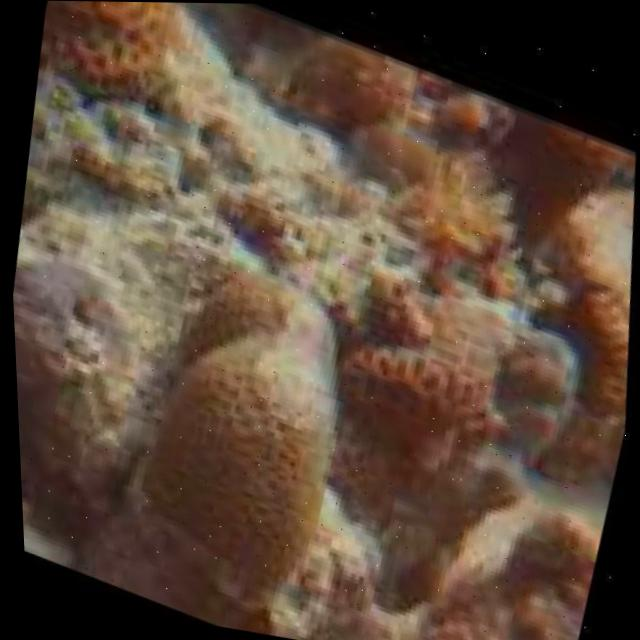Healthy Coral: (111, 250, 356, 570), (335, 268, 511, 469), (35, 0, 195, 96)
